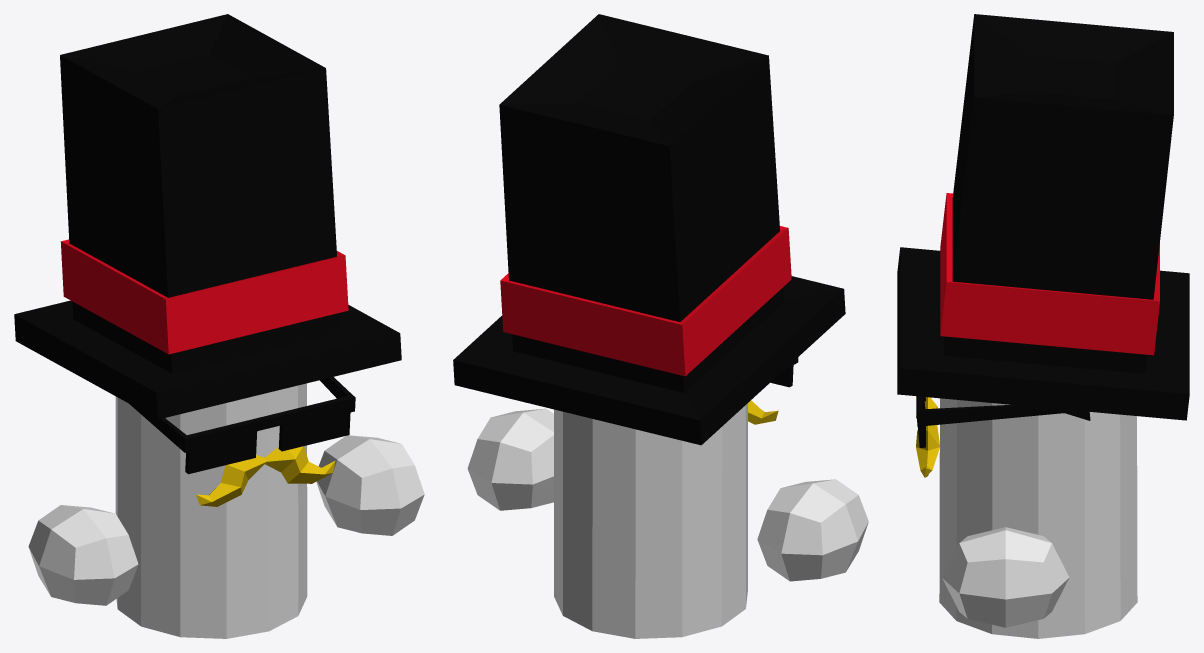
The model's file is MrCylinder.fbx.
The picture shows the model from 3 angles, left to right: view 1: azimuth 30°, elevation 25°; view 2: azimuth 150°, elevation 25°; view 3: azimuth 270°, elevation 25°; orthographic projection.
Visible parts, largest first — view 1: MrCylinder; view 2: MrCylinder; view 3: MrCylinder.
Part boxes in pixels (<box>): MrCylinder: <box>14,14,424,638</box>; MrCylinder: <box>453,14,868,638</box>; MrCylinder: <box>897,14,1189,638</box>.
Size of the model in its own units: 239 by 324 by 159.
